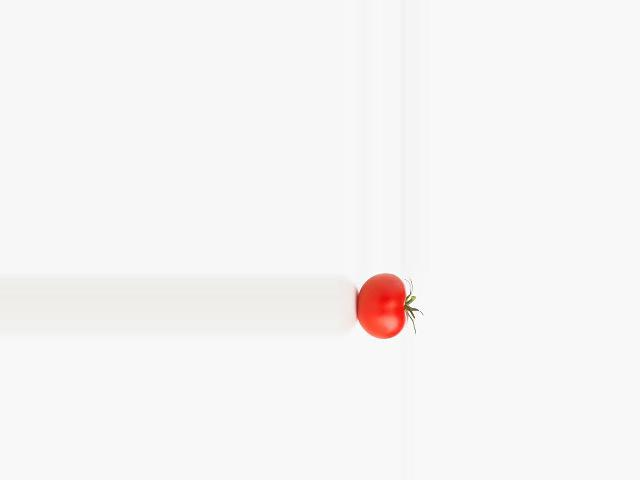tomato: (357, 274, 406, 339)
